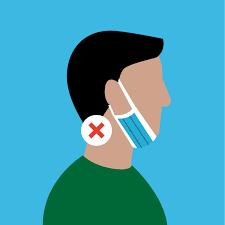Wore Mask Incorrectly: (62, 31, 175, 180)
